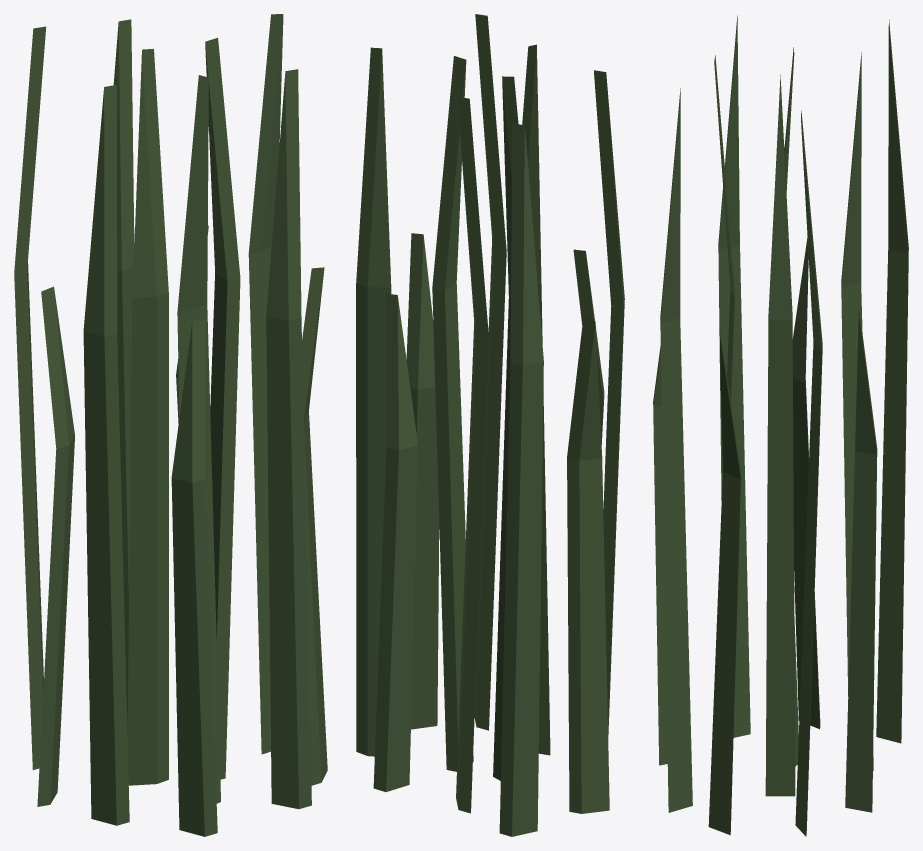
File: grass_4.gltf
The picture shows the model from 3 angles, left to right: view 1: azimuth 30°, elevation 25°; view 2: azimuth 150°, elevation 25°; view 3: azimuth 270°, elevation 25°; orthographic projection. The views are drawn at different scales.
Parts seen in each view (by area): view 1: grass_4; view 2: grass_4; view 3: grass_4.
Boxes of the visible parts, box(x1,y1,x2,y2) form: grass_4: box(14, 14, 327, 836); grass_4: box(356, 14, 624, 836); grass_4: box(653, 15, 908, 836).
Size of the model in its own units: 0.3738 by 1.01 by 0.3272.
1 material, 1 textured.
